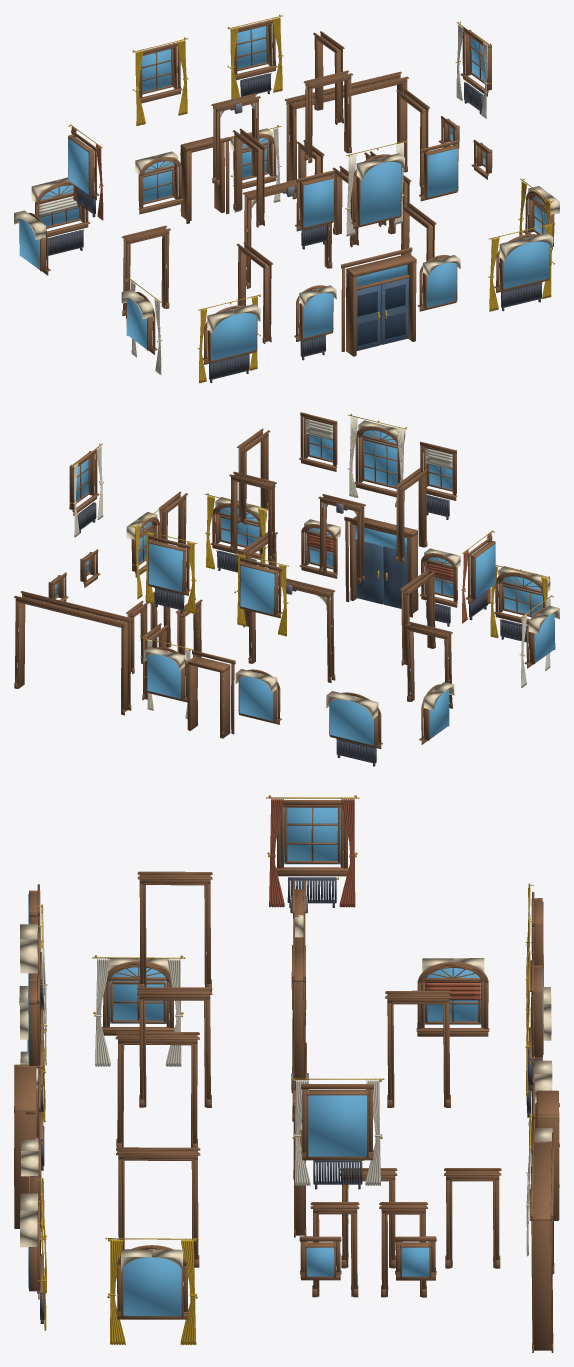
File: Museum_Int_Doors_Windows.fbx
3 renders of one model, top to bottom at view 1: azimuth 30°, elevation 25°; view 2: azimuth 150°, elevation 25°; view 3: azimuth 270°, elevation 25°, orthographic. The views are drawn at different scales.
Visible parts, largest first — view 1: Int_Window_Frames, Int_Window_Glass, Int_Door_Casings, Int_Curtains, Int_Radiators; view 2: Int_Window_Frames, Int_Door_Casings, Int_Window_Glass, Int_Curtains, Int_Radiators; view 3: Int_Window_Frames, Int_Door_Casings, Int_Window_Glass, Int_Curtains, Int_Radiators.
Boxes of the visible parts, x1,y1,x2,y2 form: Int_Window_Frames: (14, 19, 559, 364); Int_Window_Glass: (19, 26, 549, 360); Int_Door_Casings: (121, 31, 436, 343); Int_Curtains: (39, 14, 555, 383); Int_Radiators: (46, 72, 542, 382); Int_Window_Frames: (48, 412, 559, 748); Int_Door_Casings: (14, 428, 452, 715); Int_Window_Glass: (55, 430, 554, 745); Int_Curtains: (70, 413, 553, 719); Int_Radiators: (77, 495, 528, 766); Int_Window_Frames: (14, 800, 559, 1319); Int_Door_Casings: (115, 871, 554, 1352); Int_Window_Glass: (27, 807, 543, 1315); Int_Curtains: (38, 795, 534, 1345); Int_Radiators: (40, 877, 532, 1323).
Bounding box in the file's own units: 16.02 × 7.12 × 12.33.
